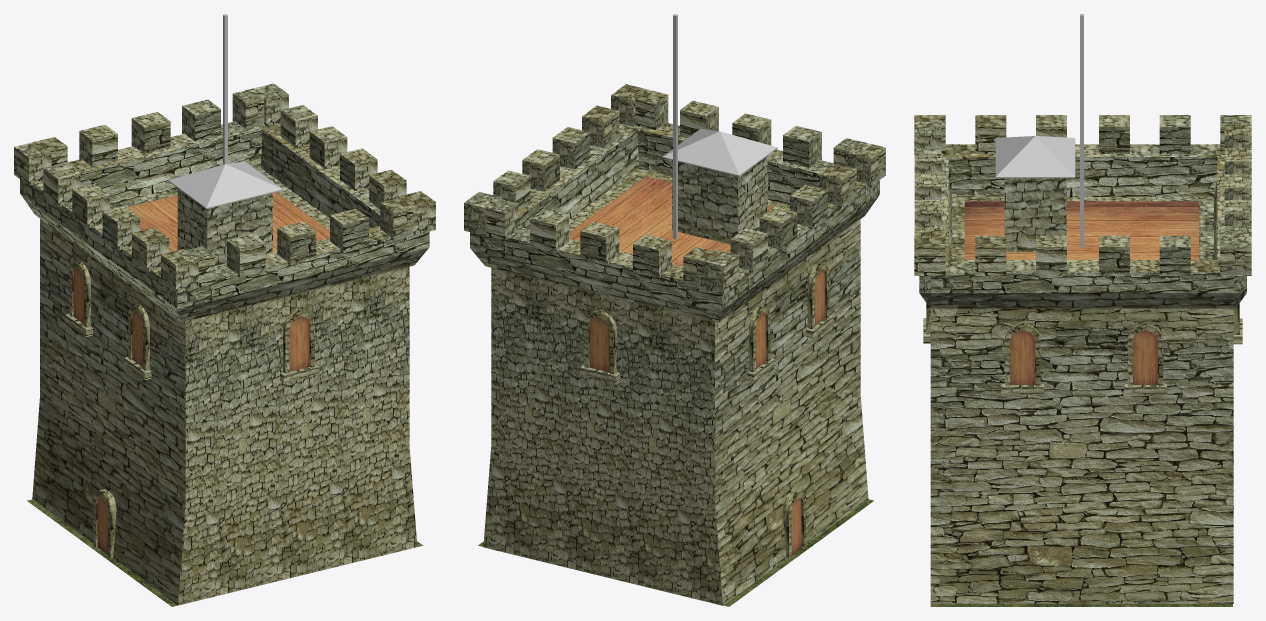
Rendered from SquareTower1LoPoly.obj.
3 renders of one model, left to right at view 1: azimuth 30°, elevation 25°; view 2: azimuth 150°, elevation 25°; view 3: azimuth 270°, elevation 25°, orthographic. The views are drawn at different scales.
Visible parts, largest first — view 1: limestone, floor, roof, grass; view 2: limestone, floor, roof, grass; view 3: limestone, floor, roof, grass.
Part boxes in pixels (x1,y1,x2,y2): limestone: (14,83,435,605); floor: (73,192,329,554); roof: (168,14,282,208); grass: (27,499,422,606); limestone: (464,84,885,605); floor: (569,176,825,555); roof: (662,14,777,239); grass: (478,499,873,606); limestone: (914,115,1251,603); floor: (964,201,1199,384); roof: (995,14,1083,247); grass: (930,604,1232,606).
Bounding box in the file's own units: 78.55 × 147 × 84.84.
